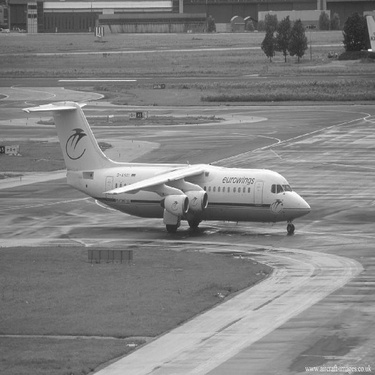airplane: (18, 90, 319, 237)
